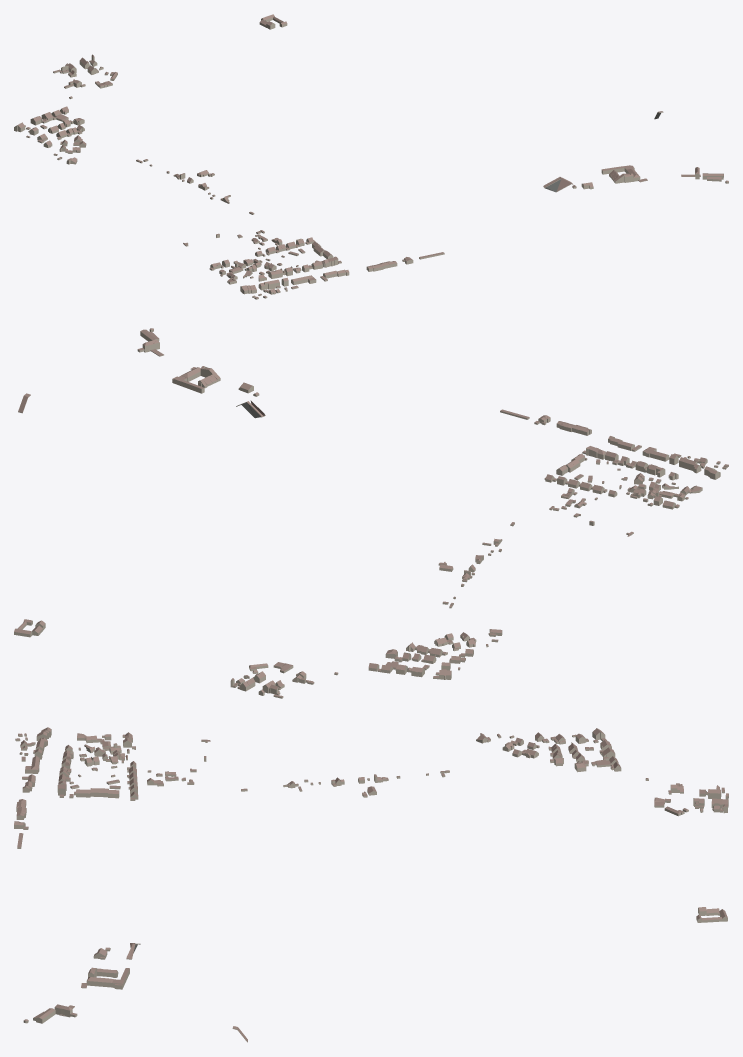
3 renders of one model, top to bottom at view 1: azimuth 30°, elevation 25°; view 2: azimuth 150°, elevation 25°; view 3: azimuth 270°, elevation 25°, orthographic. The views are drawn at different scales.
Visible parts, largest first — view 1: LoD2_32_323_5673_1_NW; view 2: LoD2_32_323_5673_1_NW; view 3: LoD2_32_323_5673_1_NW.
Part boxes in pixels (box(x1,y1,x2,y2)): LoD2_32_323_5673_1_NW: box(14, 14, 728, 299); LoD2_32_323_5673_1_NW: box(14, 328, 728, 698); LoD2_32_323_5673_1_NW: box(14, 727, 728, 1042).
Bounding box in the file's own units: 1001 × 33.17 × 1003.
